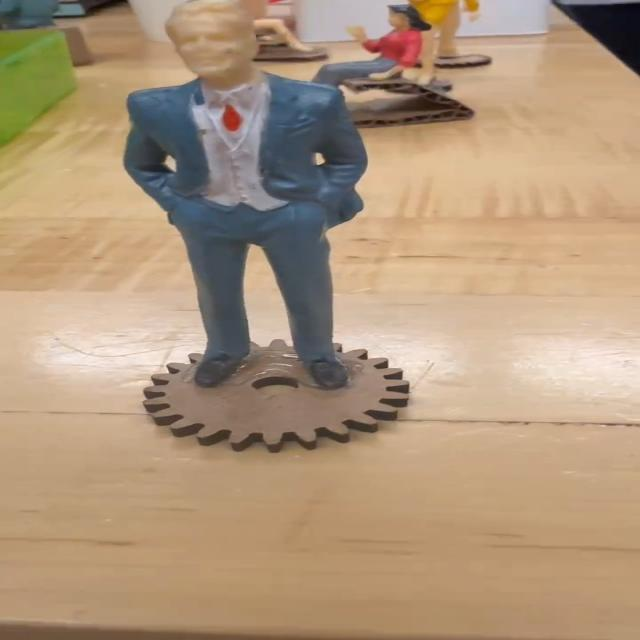Authorized: (113, 0, 380, 394)
